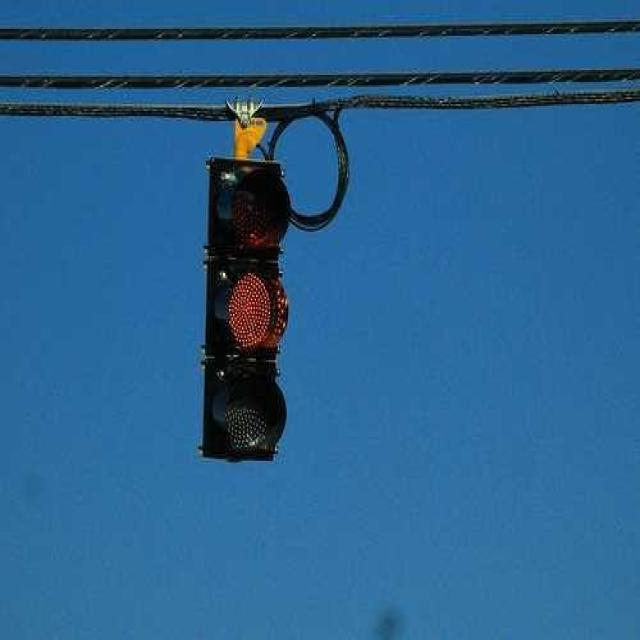Traffic Light -Yellow-: (197, 145, 297, 475)
